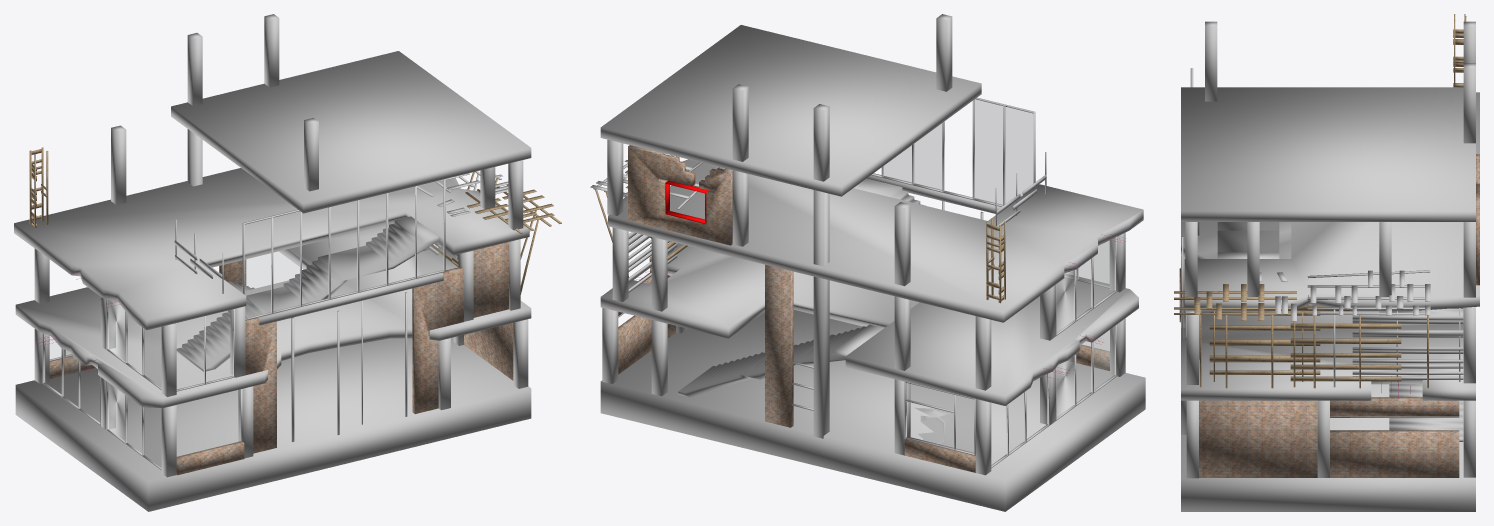
The model's file is Structure.fbx.
The picture shows the model from 3 angles, left to right: view 1: azimuth 30°, elevation 25°; view 2: azimuth 150°, elevation 25°; view 3: azimuth 270°, elevation 25°; orthographic projection. The views are drawn at different scales.
Parts seen in each view (by area): view 1: Бетон - 02, Стекло - Прозрачное Быстрое, Бетон - 04, Кирпич - Старый Натуральный, Металл - Железо, Дерево - Сосна Продольная Верт_63b3a19, Дерево - Дуб Светлый, Дерево - Сосна Продольная Гори_a25cc95; view 2: Бетон - 02, Бетон - 04, Стекло - Прозрачное Быстрое, Кирпич - Старый Натуральный, Металл - Железо, Дерево - Сосна Продольная Верт_63b3a19, Дерево - Сосна Продольная Гори_a25cc95, Дерево - Дуб Светлый; view 3: Бетон - 02, Кирпич - Старый Натуральный, Бетон - 04, Дерево - Сосна Продольная Верт_63b3a19, Дерево - Сосна Продольная Гори_a25cc95.
Part boxes in pixels (<box>): Бетон - 02: <box>14,51,531,511</box>; Стекло - Прозрачное Быстрое: <box>50,179,443,467</box>; Бетон - 04: <box>34,14,528,477</box>; Кирпич - Старый Натуральный: <box>49,242,513,475</box>; Металл - Железо: <box>42,179,445,470</box>; Дерево - Сосна Продольная Верт_63b3a19: <box>29,147,561,294</box>; Дерево - Дуб Светлый: <box>174,219,407,441</box>; Дерево - Сосна Продольная Гори_a25cc95: <box>394,171,508,259</box>; Бетон - 02: <box>600,25,1145,511</box>; Бетон - 04: <box>602,14,1125,475</box>; Стекло - Прозрачное Быстрое: <box>883,99,1115,453</box>; Кирпич - Старый Натуральный: <box>618,145,1109,472</box>; Металл - Железо: <box>792,97,1116,467</box>; Дерево - Сосна Продольная Верт_63b3a19: <box>595,155,1005,303</box>; Дерево - Сосна Продольная Гори_a25cc95: <box>590,156,721,292</box>; Дерево - Дуб Светлый: <box>908,152,1046,230</box>; Бетон - 02: <box>1181,87,1479,511</box>; Кирпич - Старый Натуральный: <box>1179,154,1479,477</box>; Бетон - 04: <box>1181,21,1475,478</box>; Дерево - Сосна Продольная Верт_63b3a19: <box>1174,14,1466,388</box>; Дерево - Сосна Продольная Гори_a25cc95: <box>1259,270,1463,387</box>.
Size of the model in its own units: 2315 by 1686 by 1244.
